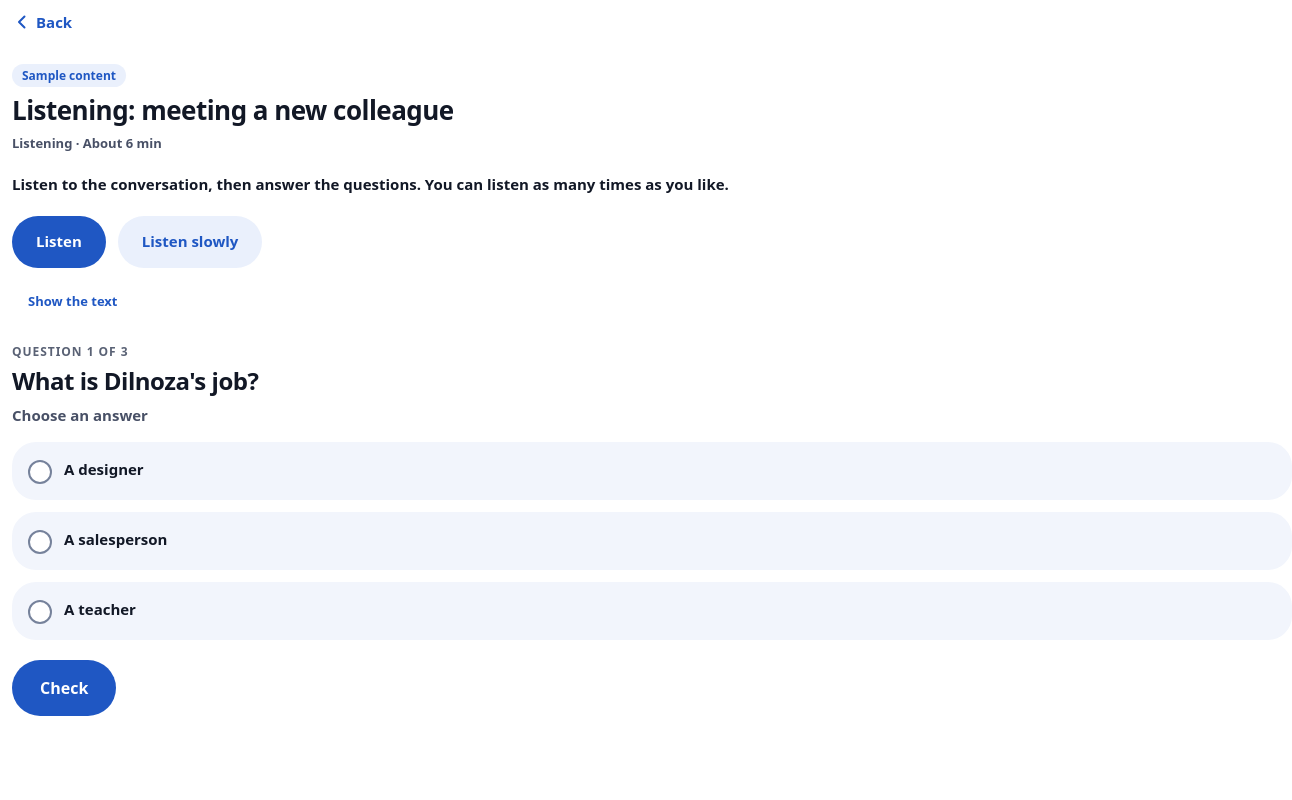
ListeningPage with an on-device English voice › stops speaking when the learner leaves
Click the button "Listen" at (59, 242), box top-left (12, 216), bottom-right (106, 268)
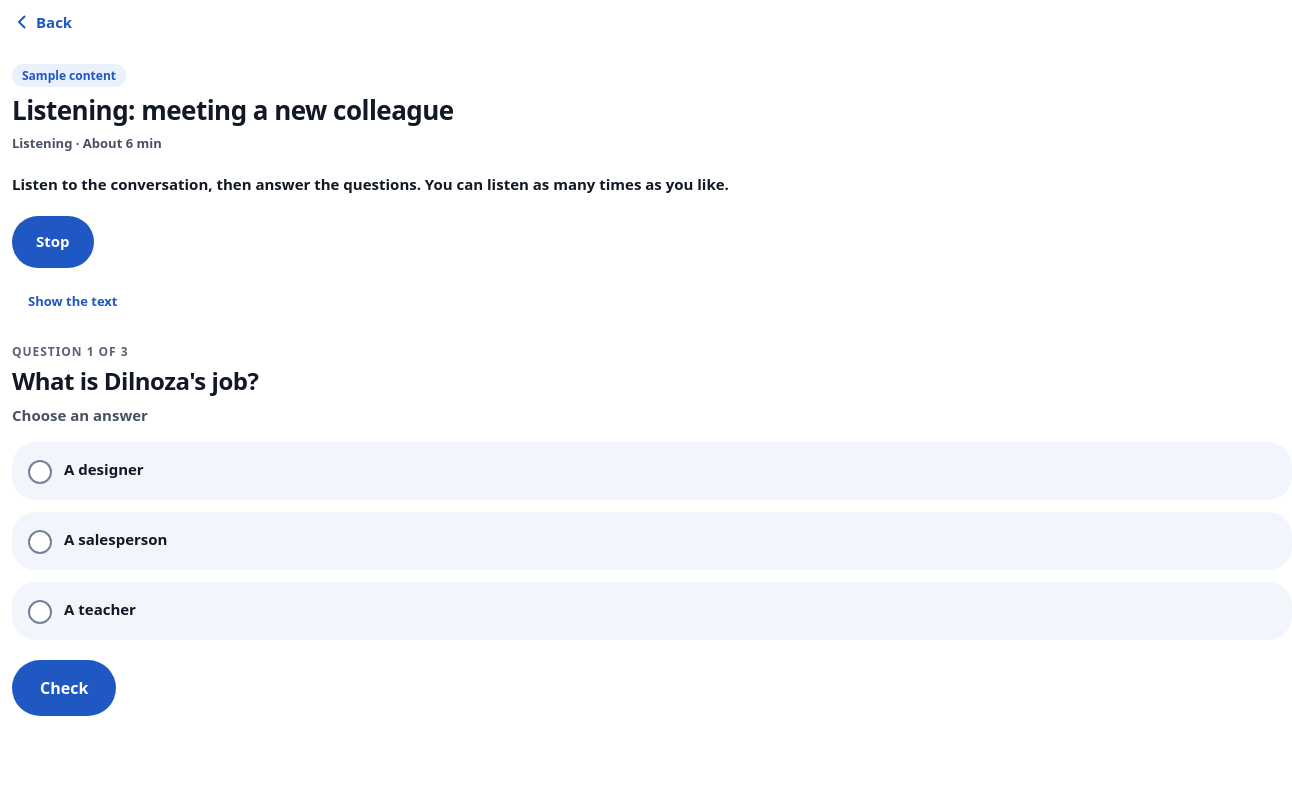
Click the link "Back" at (42, 22), box top-left (12, 12), bottom-right (72, 32)
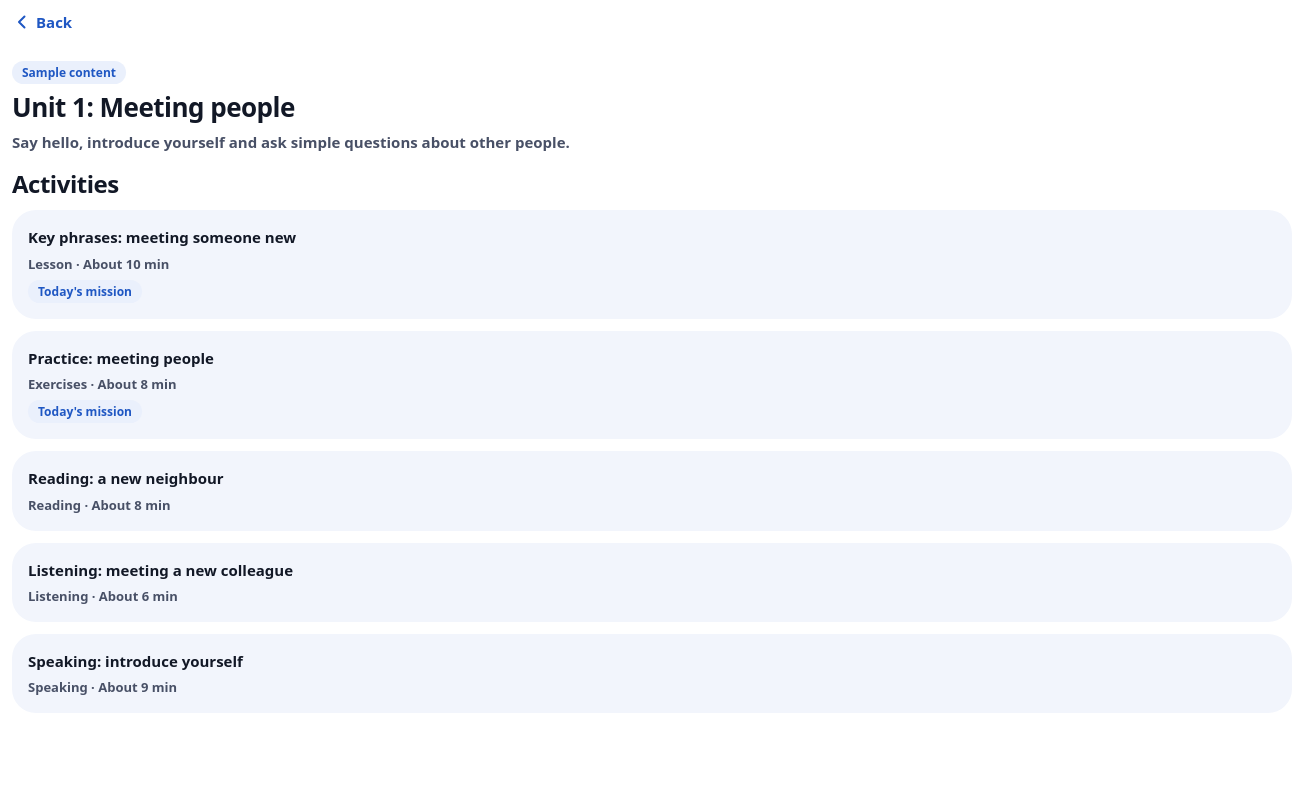
expect the heading "Activities" is shown: met, box top-left (12, 167), bottom-right (119, 200)
